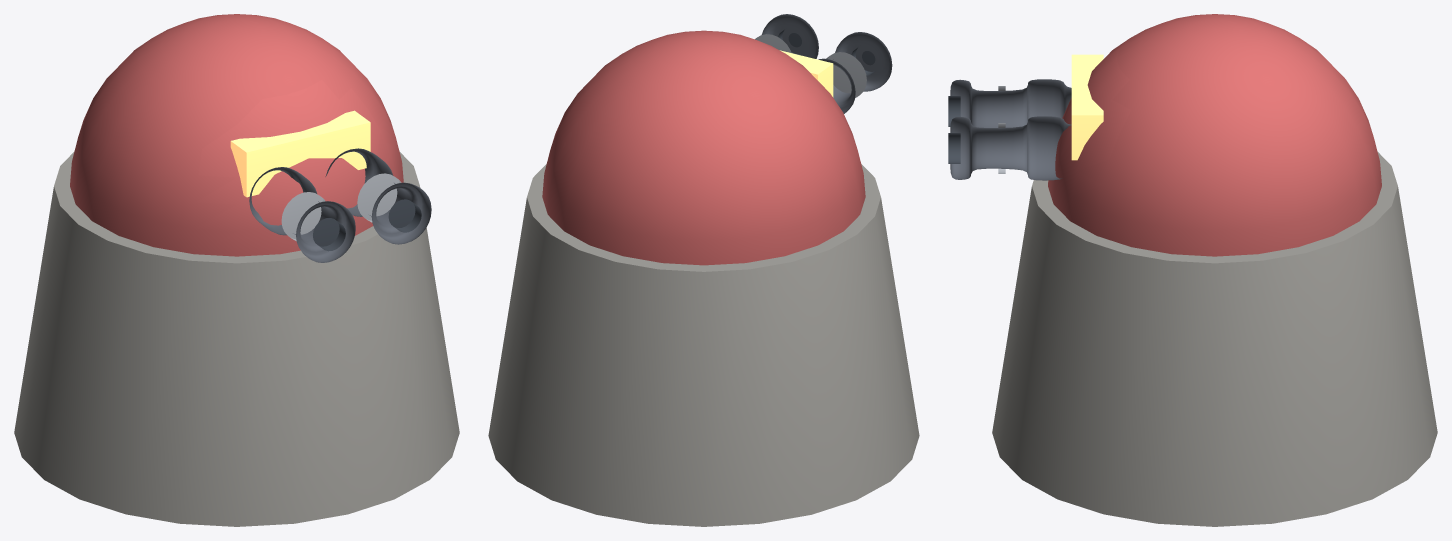
The model's file is nalasr.glb.
3 renders of one model, left to right at view 1: azimuth 30°, elevation 25°; view 2: azimuth 150°, elevation 25°; view 3: azimuth 270°, elevation 25°, orthographic. The views are drawn at different scales.
Parts seen in each view (by area): view 1: Hull, Turret, Barrel; view 2: Hull, Turret, Barrel; view 3: Hull, Turret, Barrel.
Part boxes in pixels (x1,y1,x2,y2): Hull: (14, 187, 459, 526); Turret: (54, 14, 419, 260); Barrel: (190, 80, 431, 263); Hull: (488, 198, 919, 526); Turret: (527, 30, 880, 271); Barrel: (755, 14, 892, 178); Hull: (992, 187, 1437, 526); Turret: (1070, 14, 1397, 263); Barrel: (948, 48, 1131, 240).
Size of the model in its own units: 1.01 by 1.01 by 1.11.
